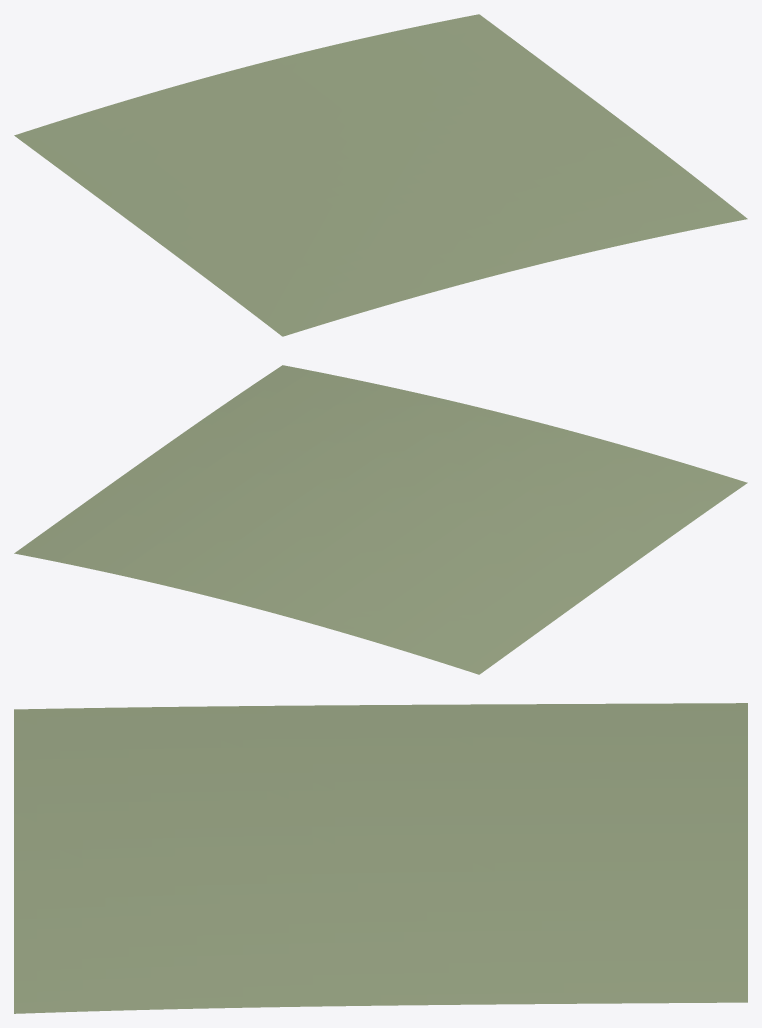
Rendered from valley-6-5.glb.
3 views of the same model, one above another, from view 1: azimuth 30°, elevation 25°; view 2: azimuth 150°, elevation 25°; view 3: azimuth 270°, elevation 25° (orthographic). The views are drawn at different scales.
Visible parts, largest first — view 1: valley-6-5; view 2: valley-6-5; view 3: valley-6-5.
Boxes of the visible parts, x1,y1,x2,y2 form: valley-6-5: (14,14,747,336); valley-6-5: (14,365,747,674); valley-6-5: (14,703,747,1013).
Size of the model in its own units: 256 by 9.06 by 256.
